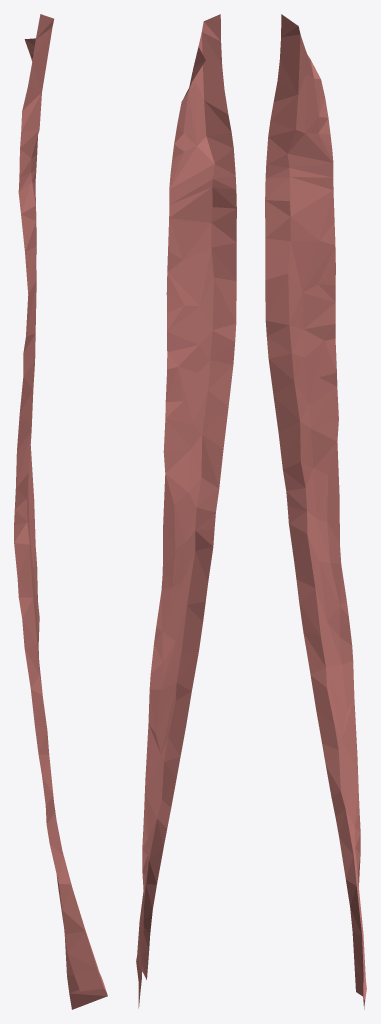
3 views of the same model, side by side, from view 1: azimuth 30°, elevation 25°; view 2: azimuth 150°, elevation 25°; view 3: azimuth 330°, elevation 25° (orthographic). The views are drawn at different scales.
Parts seen in each view (by area): view 1: ZA_5d5aa5ef42c4bd55; view 2: ZA_5d5aa5ef42c4bd55; view 3: ZA_5d5aa5ef42c4bd55.
Boxes of the visible parts, x1=… form: ZA_5d5aa5ef42c4bd55: x1=14, y1=14, x2=107, y2=1009; ZA_5d5aa5ef42c4bd55: x1=136, y1=14, x2=236, y2=1008; ZA_5d5aa5ef42c4bd55: x1=265, y1=14, x2=366, y2=1009.
Bounding box in the file's own units: 0.0283 × 0.2912 × 0.0204.
